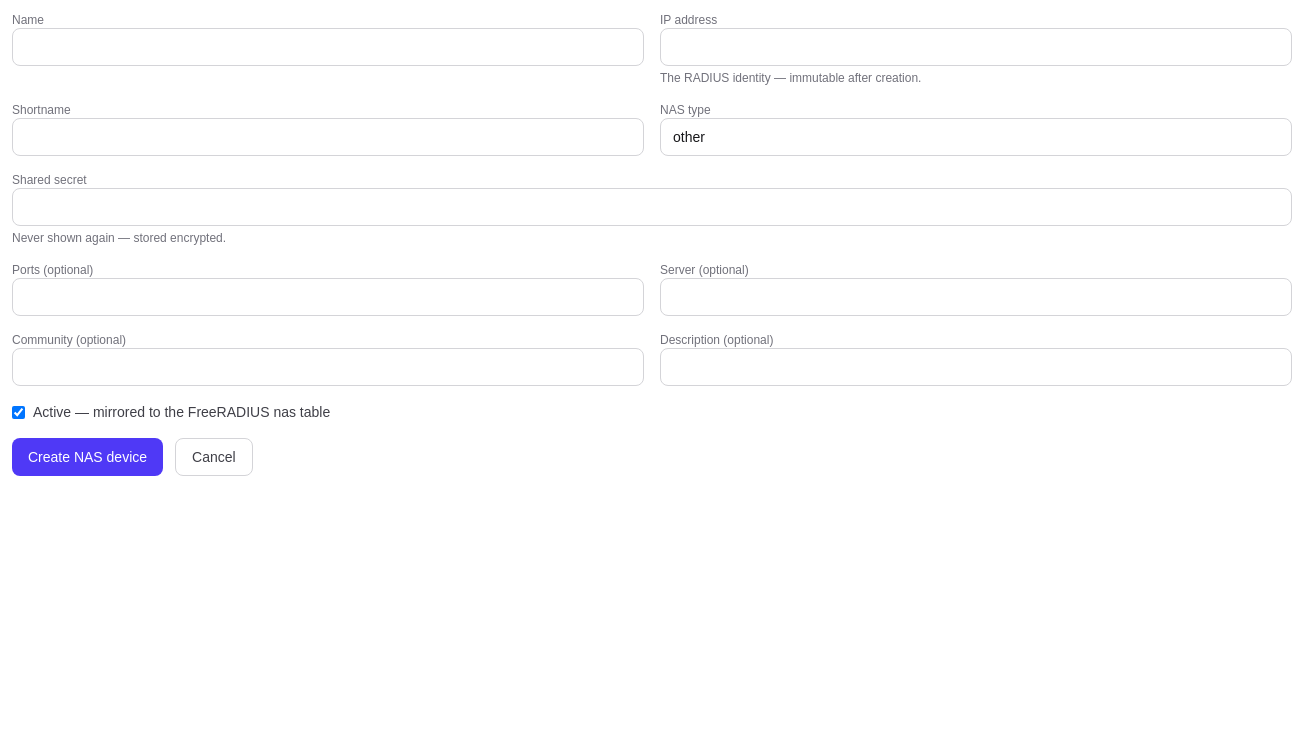
Test: NasDeviceForm (create) › shows the backend error and stays on the form
In the field labelled "Name": [328, 47] box [12,28,644,66], type "edge-r2"
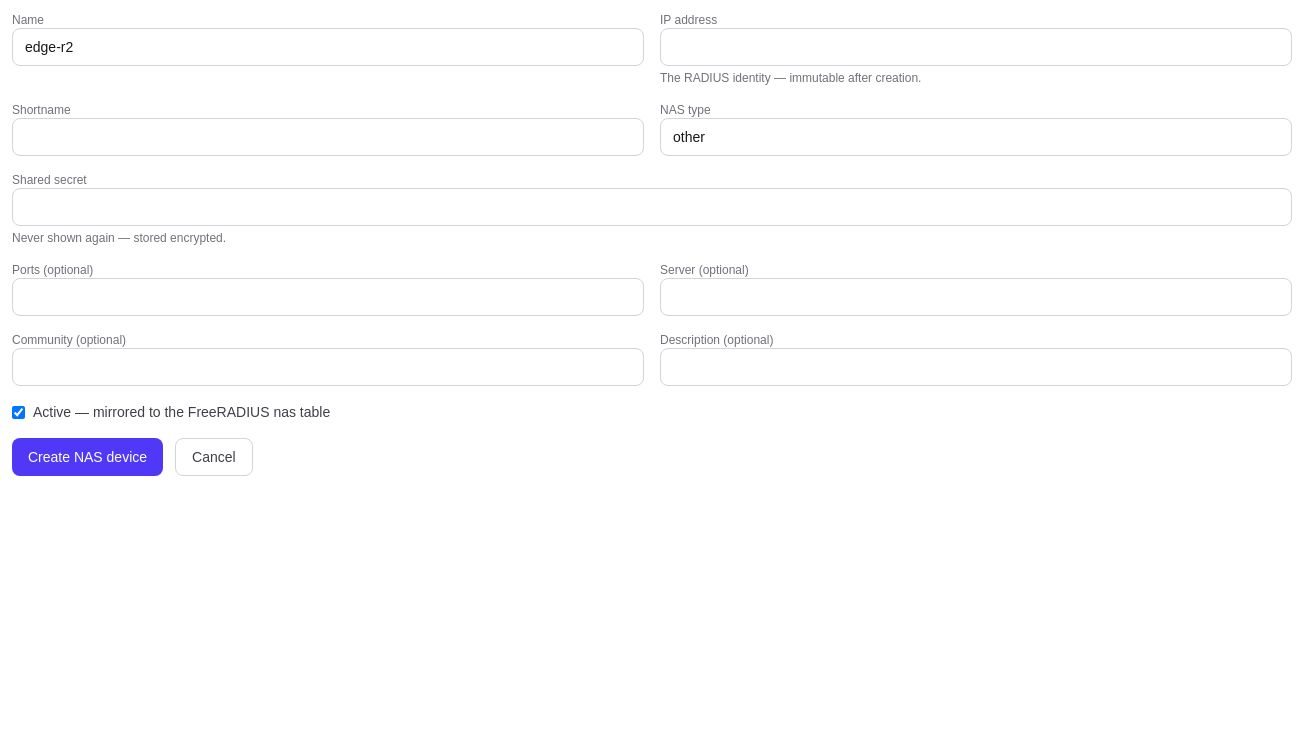
In the field labelled "IP address": [976, 47] box [660,28,1292,66], type "10.0.0.1"
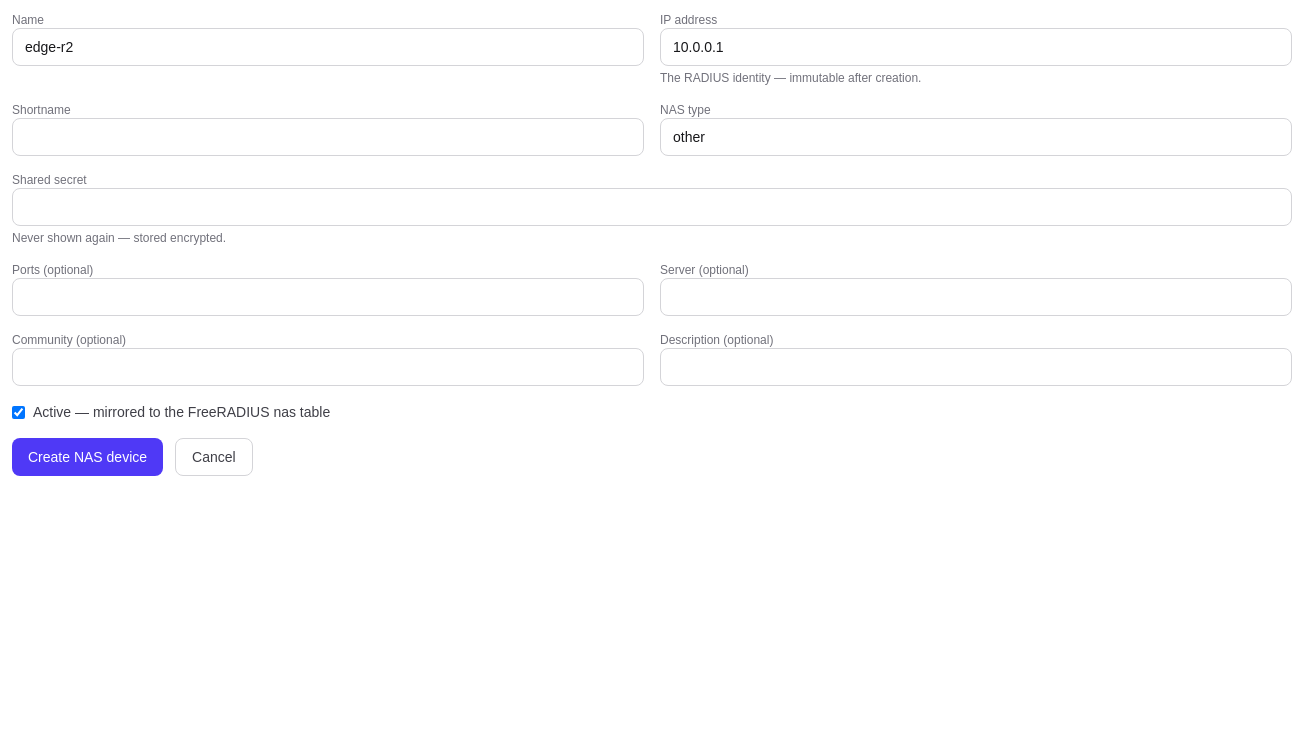
In the field labelled "Shortname": [328, 137] box [12,118,644,156], type "edge2"
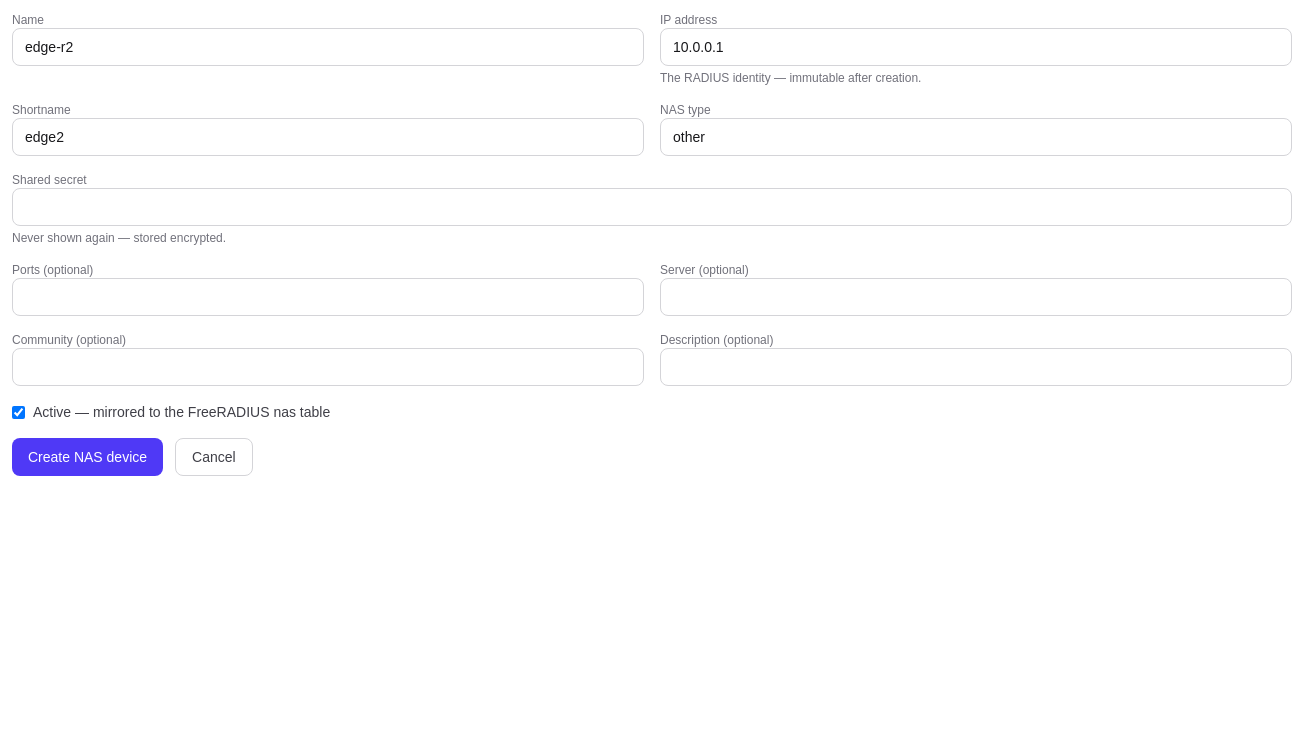
In the password field labelled "Shared secret": [652, 207] box [12,188,1292,226], type "sekrit123"
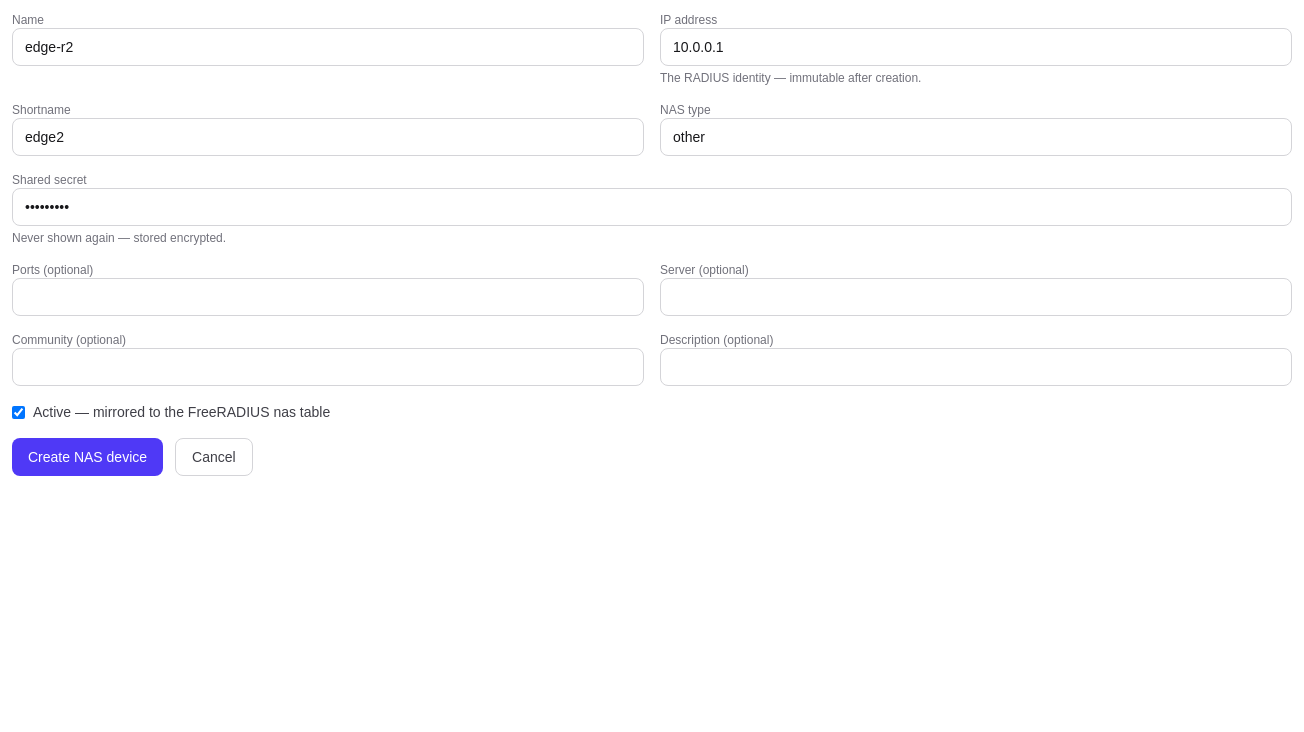
In the number field labelled "Ports (optional)": [328, 297] box [12,278,644,316], type "1812"
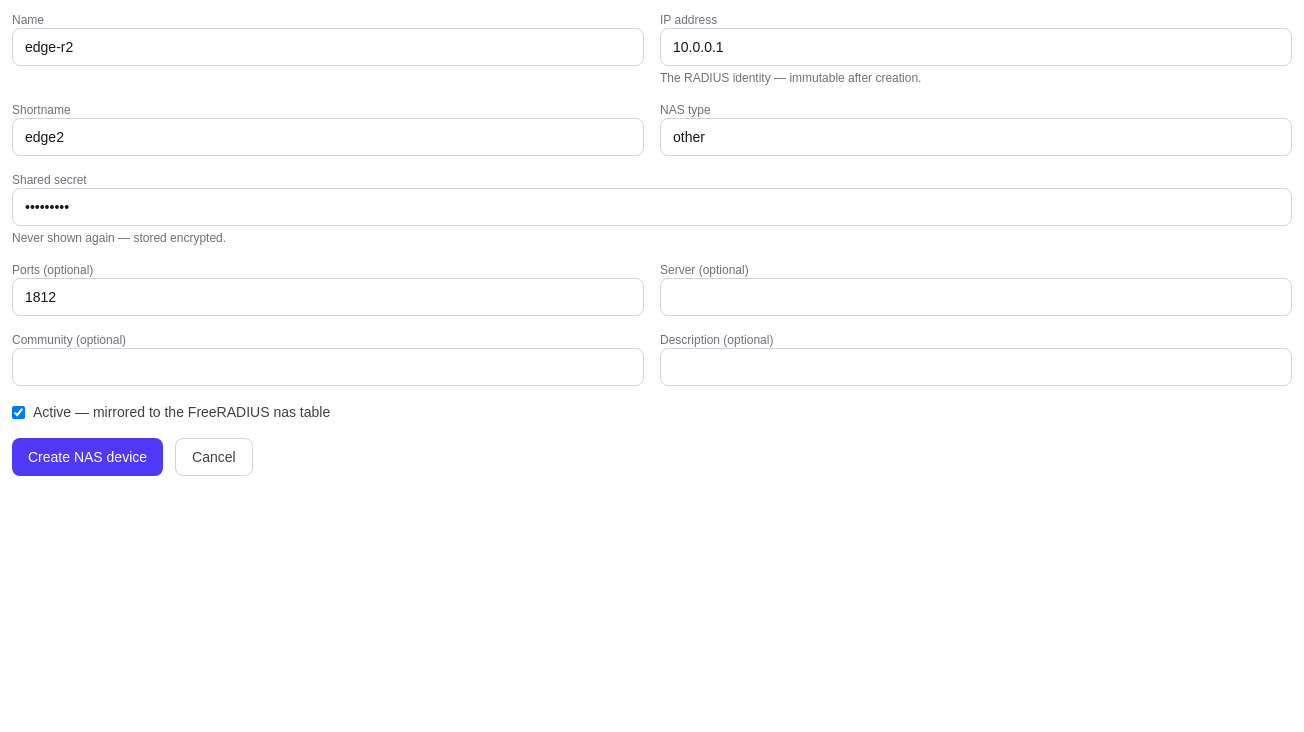
Click the button "Create NAS device": [88, 457] box [12,438,163,476]
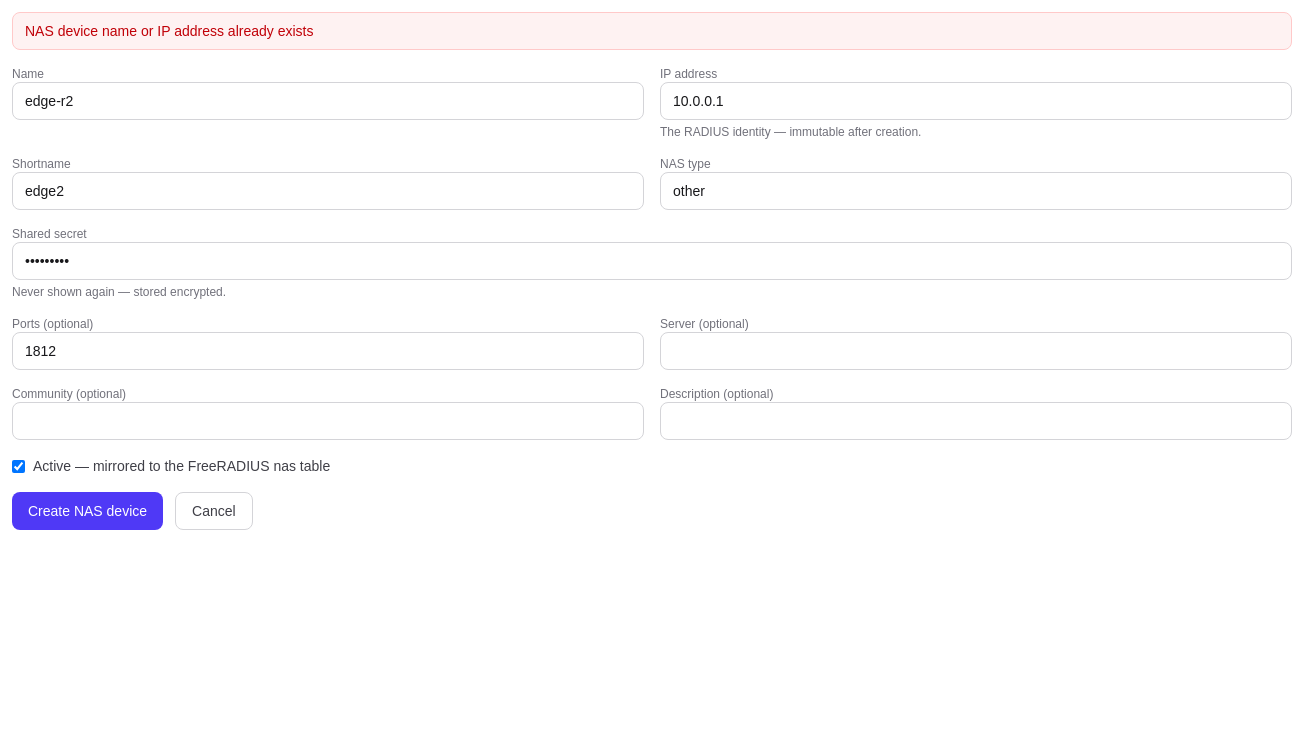
Expected: the message reads "NAS device name or IP address already exists", [25,23,313,39]
